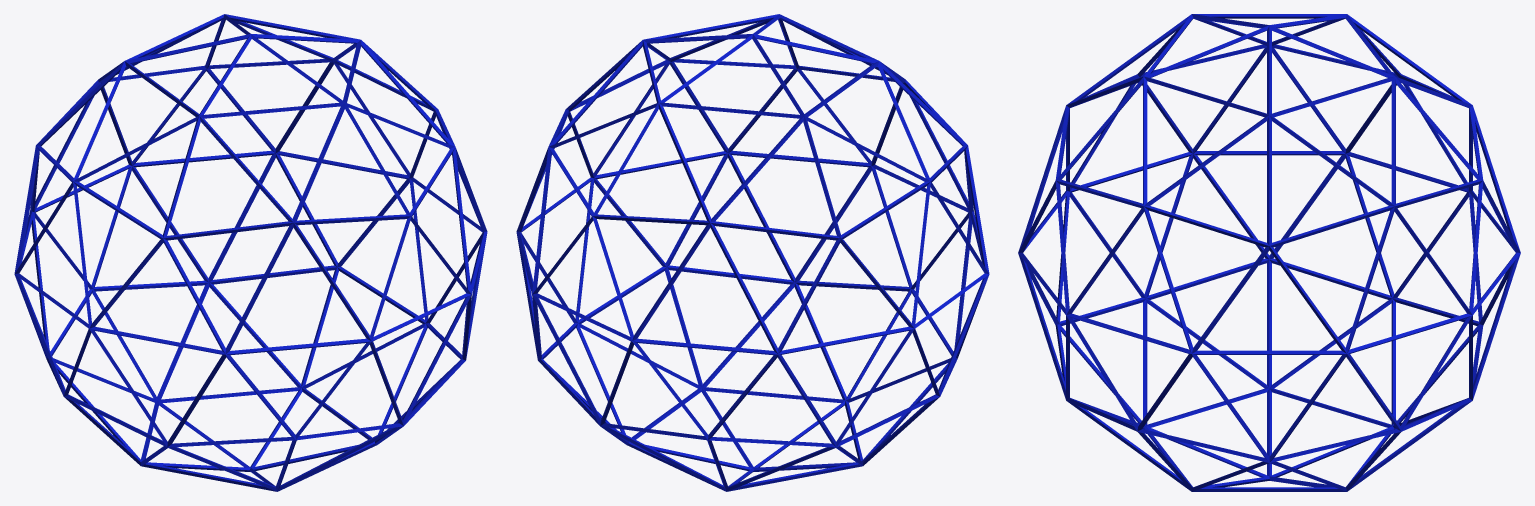
The model's file is cage.obj.
3 renders of one model, left to right at view 1: azimuth 30°, elevation 25°; view 2: azimuth 150°, elevation 25°; view 3: azimuth 270°, elevation 25°, orthographic. The views are drawn at different scales.
Parts seen in each view (by area): view 1: Icosphere_Icosphere.001; view 2: Icosphere_Icosphere.001; view 3: Icosphere_Icosphere.001.
Boxes of the visible parts, box(x1,y1,x2,y2) form: Icosphere_Icosphere.001: box(14, 14, 487, 491); Icosphere_Icosphere.001: box(516, 14, 989, 491); Icosphere_Icosphere.001: box(1018, 14, 1520, 491).
Bounding box in the file's own units: 4.85 × 5.1 × 5.1.
